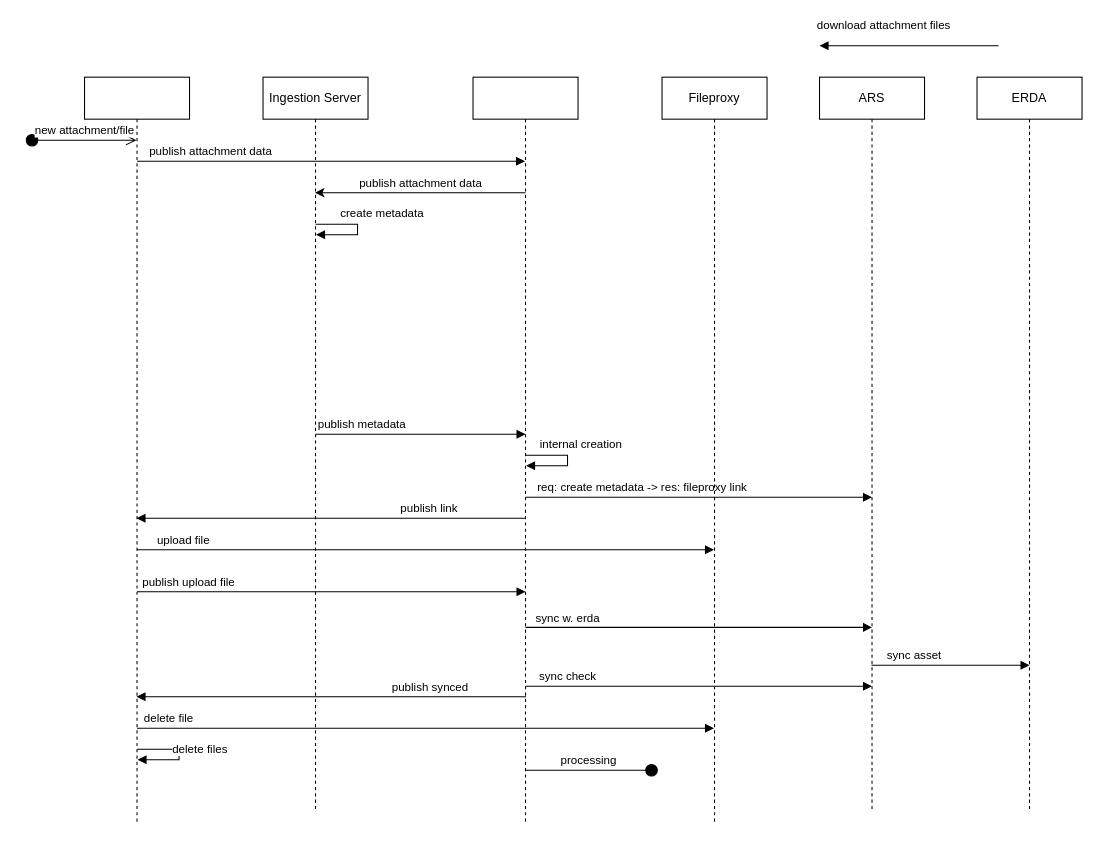
Image size: 1100x841. Some labels were removed from this diagram. Here are the shapes that lost their labels. From the top down, the box of each, then its label:
(83, 76, 190, 823): Specify Adapter
(472, 76, 578, 823): Integration Server
